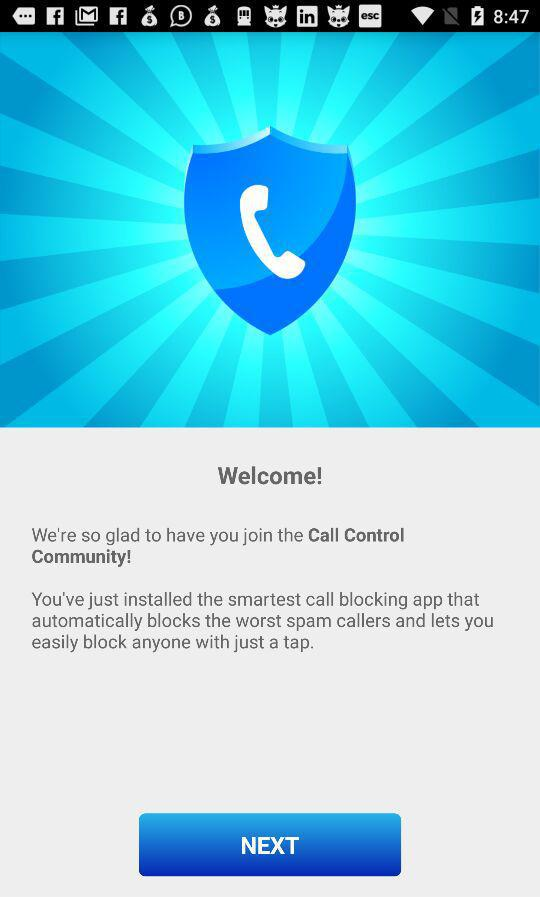Image: (1, 33, 540, 428)
Text: (31, 591, 495, 654), (31, 527, 405, 568), (217, 465, 323, 486)
TextButton: (139, 812, 402, 876)
UpperTaskBar: (1, 1, 540, 33)
